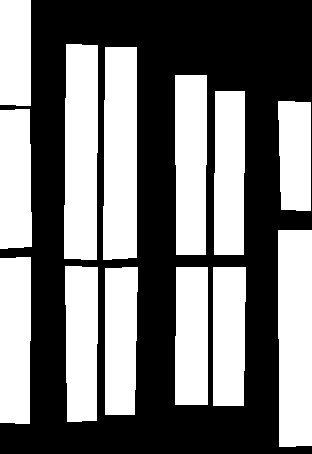parkingspot: (278, 230, 311, 446), (64, 44, 97, 259), (103, 47, 136, 259), (175, 75, 206, 254), (0, 257, 30, 423), (65, 266, 97, 421), (214, 91, 244, 254), (105, 267, 137, 414), (213, 267, 245, 405), (175, 267, 207, 404), (0, 109, 31, 248), (278, 101, 310, 210), (0, 0, 30, 105)
